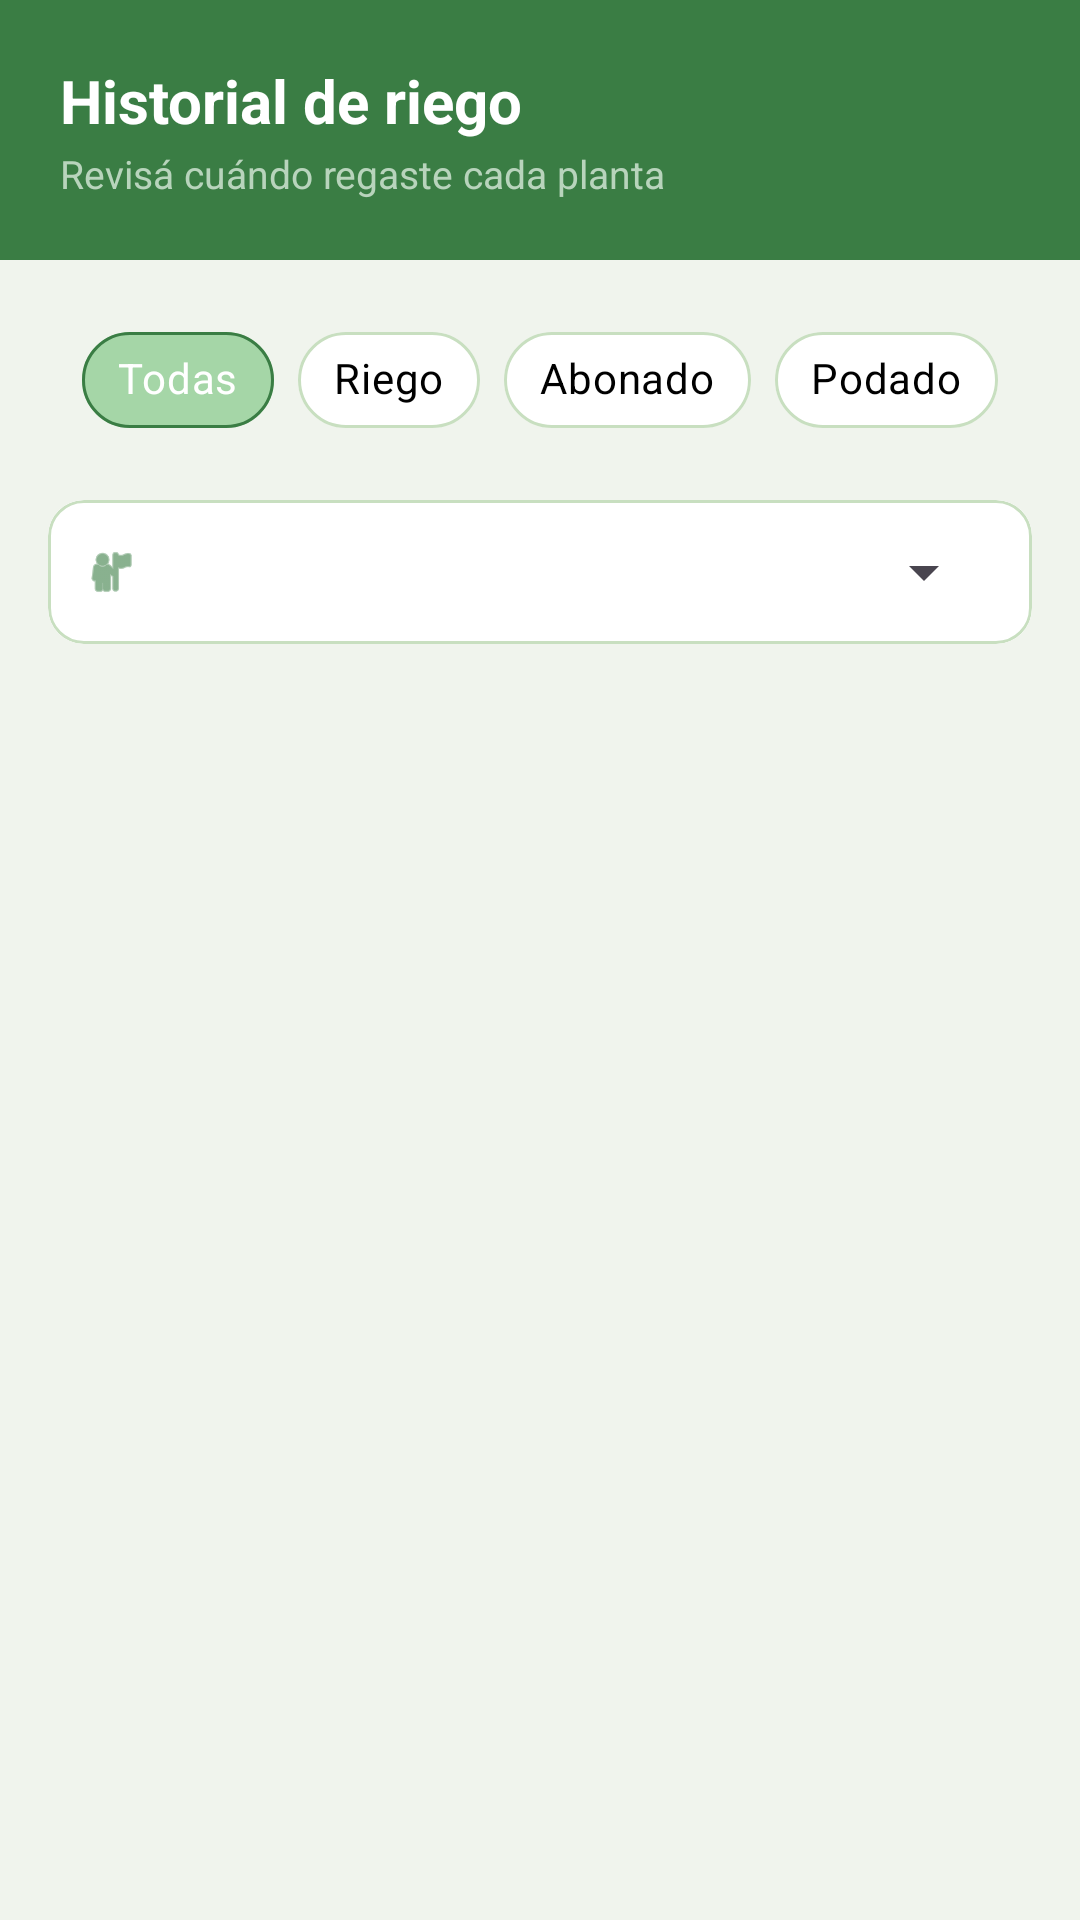

Screen size 1080×1920. Icon name, then its box in pixels as (x1, y1, x2, y2):
myplaces: (91, 552, 132, 592)
